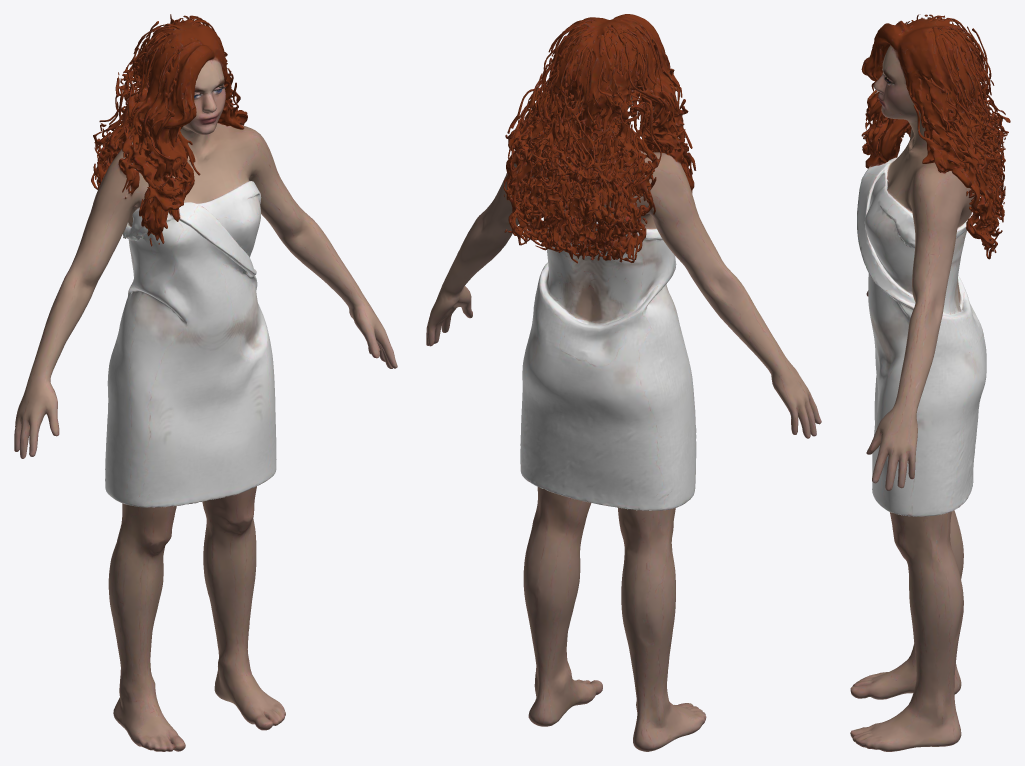
File: alice.glb
3 renders of one model, left to right at view 1: azimuth 30°, elevation 25°; view 2: azimuth 150°, elevation 25°; view 3: azimuth 270°, elevation 25°, orthographic. The views are drawn at different scales.
Visible parts, largest first — view 1: world; view 2: world; view 3: world.
Boxes of the visible parts, x1=… form: world: x1=14, y1=14, x2=397, y2=751; world: x1=426, y1=14, x2=821, y2=751; world: x1=850, y1=14, x2=1010, y2=751.
Bounding box in the file's own units: 0.5639 × 1 × 0.2079.
Materials: 1 (1 with a texture image).
